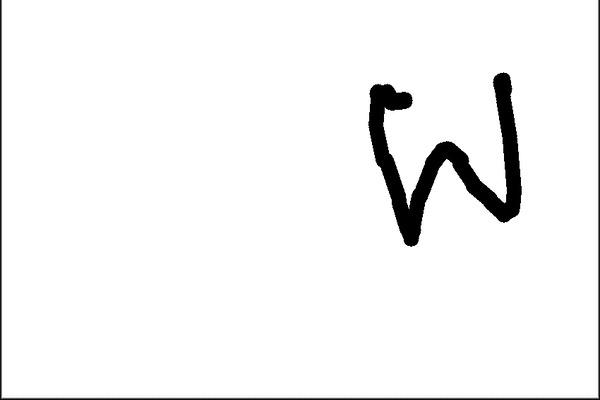w: (353, 56, 534, 258)
